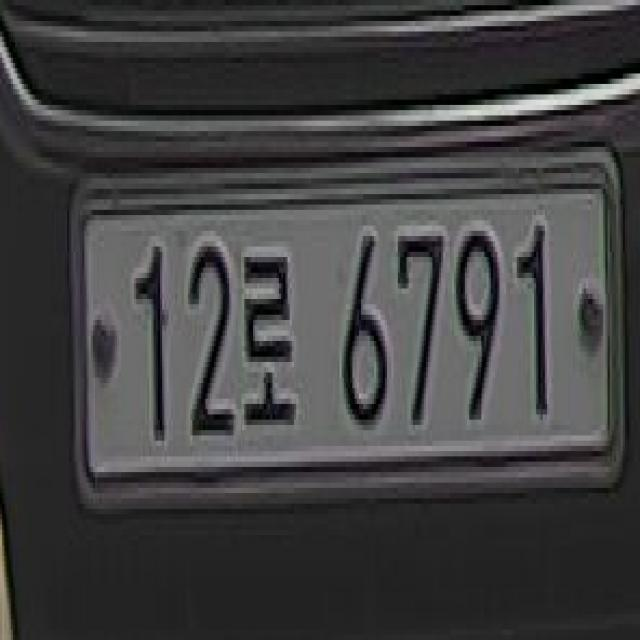1: (123, 231, 173, 467), (510, 205, 558, 430)
2: (182, 226, 238, 457)
6: (335, 220, 394, 436)
7: (392, 215, 448, 446)
9: (448, 210, 503, 446)
license_plate: (65, 121, 627, 535)
lo: (240, 241, 301, 451)
